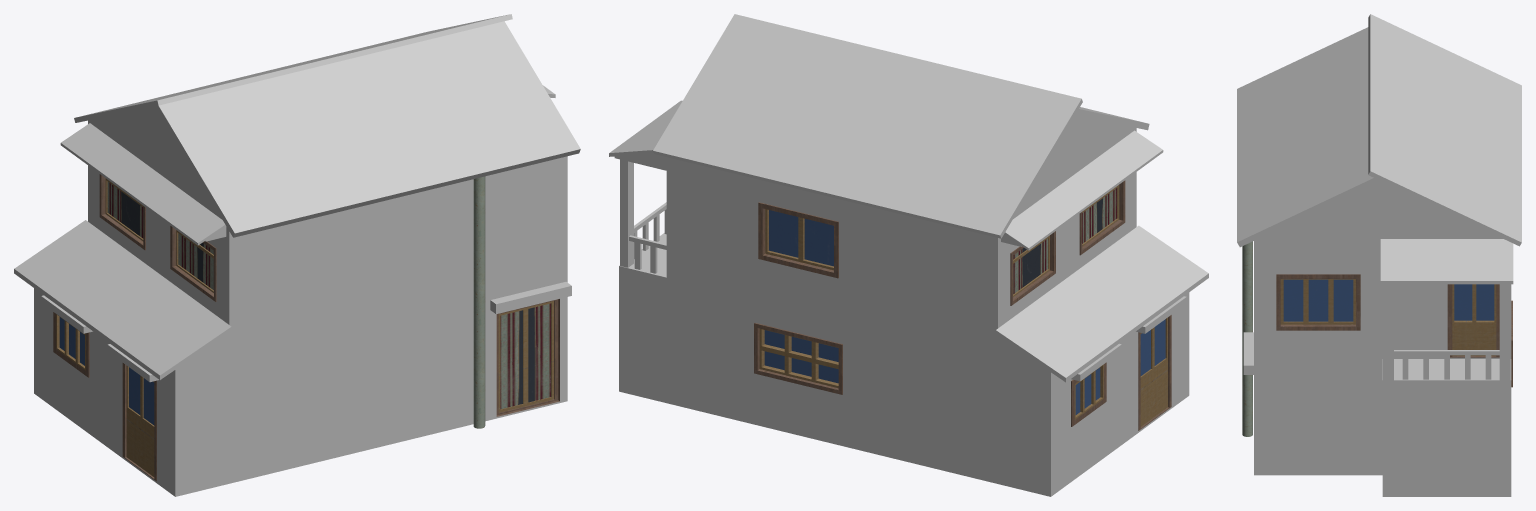
File: House4-1.fbx
3 views of the same model, side by side, from view 1: azimuth 30°, elevation 25°; view 2: azimuth 150°, elevation 25°; view 3: azimuth 270°, elevation 25° (orthographic). The views are drawn at different scales.
Visible parts, largest first — view 1: House4-1; view 2: House4-1; view 3: House4-1.
Boxes of the visible parts, x1,y1,x2,y2 form: House4-1: (14, 14, 580, 496); House4-1: (609, 14, 1208, 496); House4-1: (1237, 14, 1521, 496).
Bounding box in the file's own units: 763 × 528 × 443.
